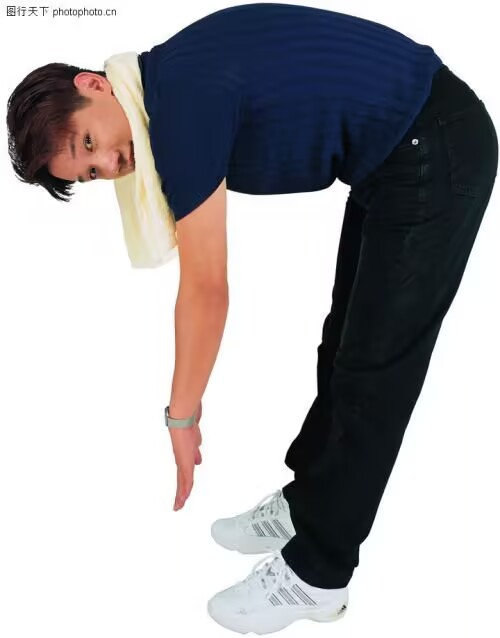bending: (9, 3, 495, 635)
